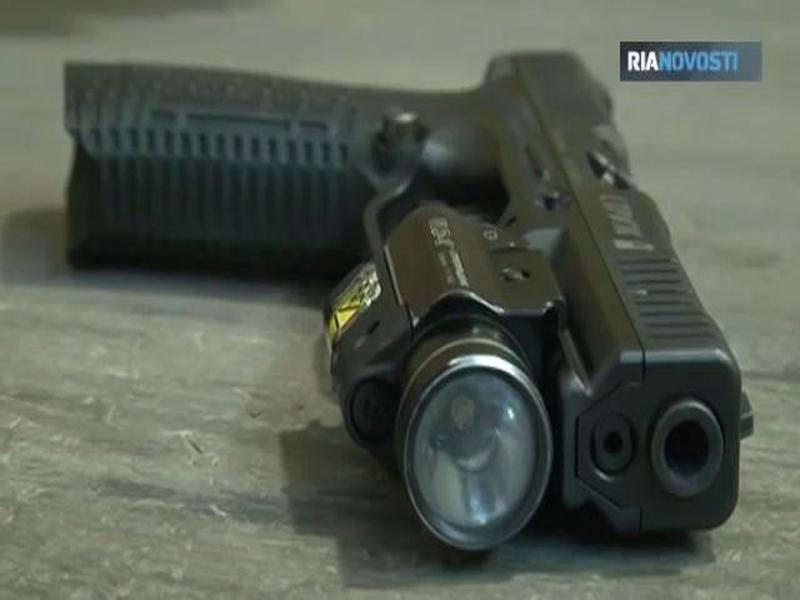Pistola: (49, 42, 757, 563)
